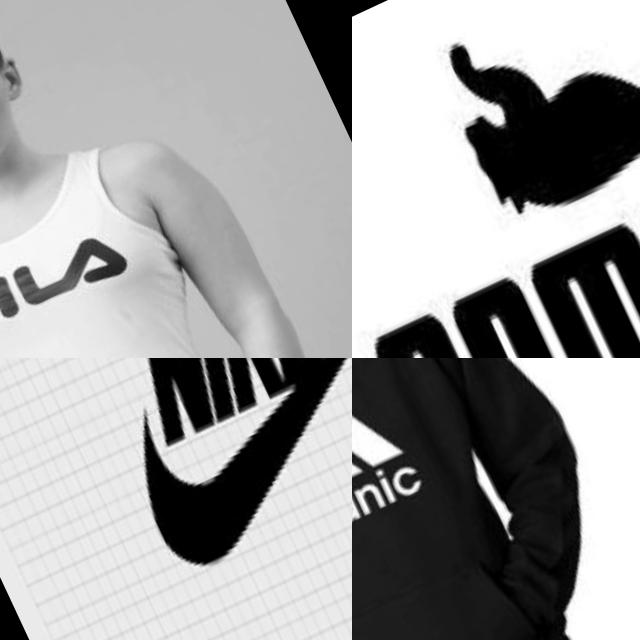ADIDAS_fake: (352, 383, 453, 565)
FILA_original: (0, 208, 139, 358)
NIKE_original: (57, 358, 352, 606)
PUMA_fake: (352, 0, 640, 358)
